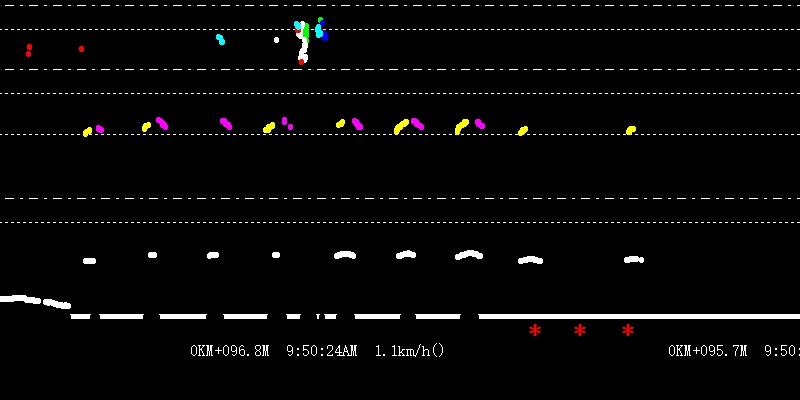J: (293, 3, 330, 66)
face_down: (211, 25, 227, 49)
star: (526, 320, 543, 339), (572, 320, 587, 336), (620, 322, 633, 338)
